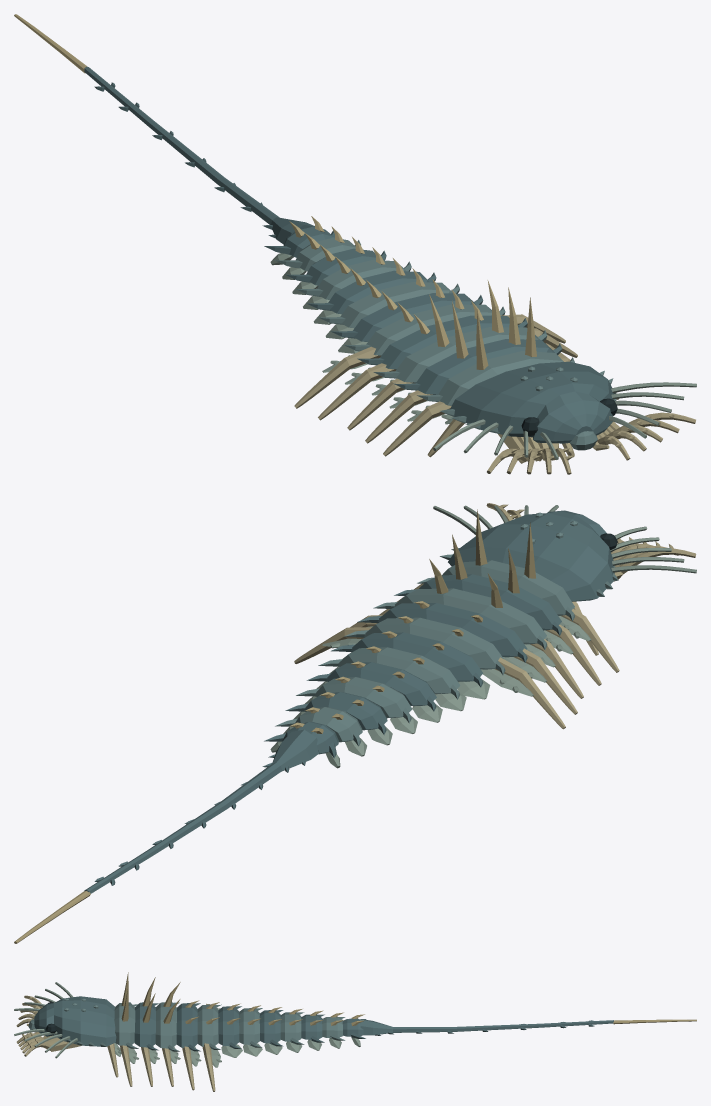
The picture shows the model from 3 angles, top to bottom: view 1: azimuth 30°, elevation 25°; view 2: azimuth 150°, elevation 25°; view 3: azimuth 270°, elevation 25°; orthographic projection. The views are drawn at different scales.
Visible parts, largest first — view 1: cephalic-shield, walking-endopods-L, paired-dorsal-armature, telson-proximal, tergite-02, tergite-01, tergite-03, tergite-04, tergite-06, tergite-05, tergite-07, tergite-08 (+10 smaller); view 2: cephalic-shield, walking-endopods-L, telson-proximal, paired-dorsal-armature, tergite-04, tergite-03, tergite-05, tergite-06, tergite-02, tergite-07, postthoracic-paddles-L, tergite-01 (+9 smaller); view 3: cephalic-shield, telson-proximal, paired-dorsal-armature, walking-endopods-R, tergite-04, postthoracic-paddles-R, tergite-03, tergite-05, tergite-02, tergite-06, tergite-01, tergite-07 (+12 smaller).
Part boxes in pixels (left/top/right/bottom): cephalic-shield: left=450, top=361, right=613, bottom=443; walking-endopods-L: left=294, top=346, right=464, bottom=457; paired-dorsal-armature: left=289, top=216, right=536, bottom=369; telson-proximal: left=84, top=66, right=314, bottom=244; tergite-02: left=393, top=339, right=561, bottom=394; tergite-01: left=417, top=351, right=574, bottom=405; tergite-03: left=373, top=327, right=547, bottom=382; tergite-04: left=357, top=315, right=527, bottom=369; tergite-06: left=330, top=293, right=483, bottom=341; tergite-05: left=344, top=304, right=505, bottom=355; tergite-07: left=318, top=282, right=459, bottom=328; tergite-08: left=306, top=270, right=436, bottom=314; cephalic-shield: left=448, top=510, right=614, bottom=601; walking-endopods-L: left=495, top=601, right=619, bottom=729; telson-proximal: left=84, top=729, right=319, bottom=893; paired-dorsal-armature: left=289, top=509, right=535, bottom=733; tergite-04: left=357, top=603, right=527, bottom=662; tergite-03: left=373, top=588, right=547, bottom=649; tergite-05: left=344, top=617, right=505, bottom=675; tergite-06: left=331, top=632, right=483, bottom=687; tergite-02: left=394, top=574, right=561, bottom=635; tergite-07: left=318, top=647, right=460, bottom=699; postthoracic-paddles-L: left=325, top=679, right=490, bottom=768; tergite-01: left=417, top=560, right=574, bottom=621; cephalic-shield: left=34, top=996, right=116, bottom=1046; telson-proximal: left=360, top=1019, right=613, bottom=1035; paired-dorsal-armature: left=121, top=972, right=364, bottom=1025; walking-endopods-R: left=107, top=1043, right=215, bottom=1091; tergite-04: left=176, top=1003, right=200, bottom=1051; postthoracic-paddles-R: left=221, top=1037, right=360, bottom=1057; tergite-03: left=155, top=1002, right=179, bottom=1051; tergite-05: left=197, top=1004, right=221, bottom=1049; tergite-02: left=134, top=1002, right=159, bottom=1050; tergite-06: left=218, top=1006, right=241, bottom=1048; tergite-01: left=114, top=1002, right=138, bottom=1048; tergite-07: left=239, top=1008, right=262, bottom=1047.
Bounding box in the file's own units: 0.011 × 0.00495 × 0.0412.
